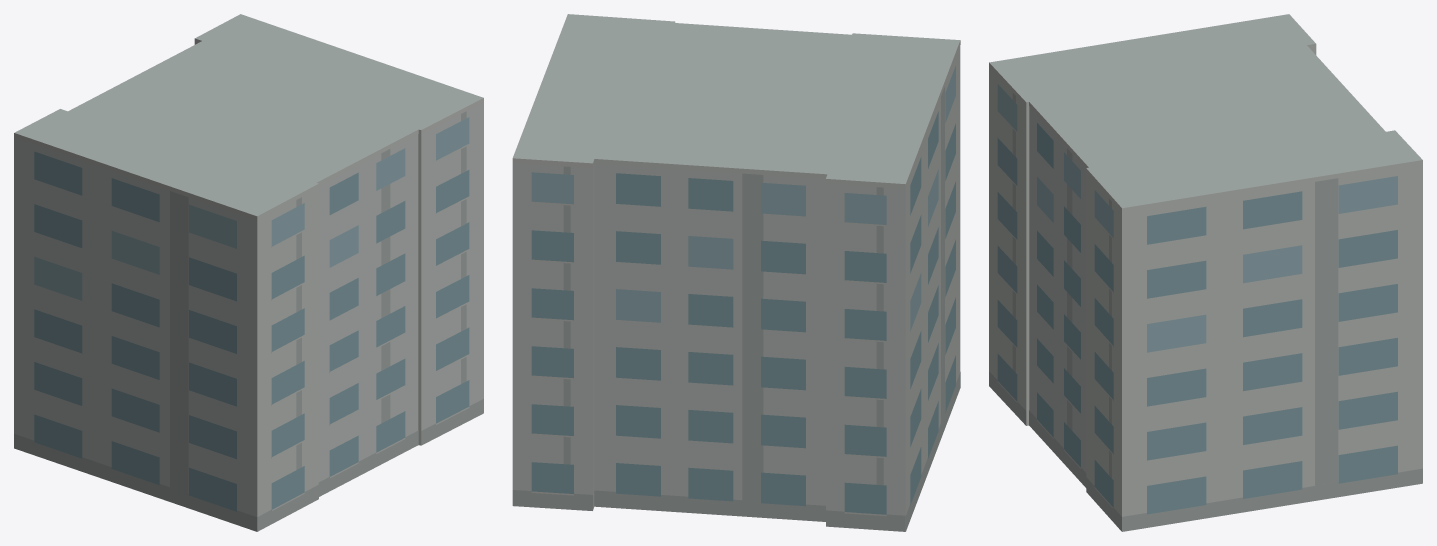
File: survey-upis-32835339.glb
The picture shows the model from 3 angles, left to right: view 1: azimuth 30°, elevation 25°; view 2: azimuth 150°, elevation 25°; view 3: azimuth 270°, elevation 25°; orthographic projection. The views are drawn at different scales.
Parts seen in each view (by area): view 1: survey-upis-32835339.tmp; view 2: survey-upis-32835339.tmp; view 3: survey-upis-32835339.tmp.
Boxes of the visible parts, bbox=[...] form: survey-upis-32835339.tmp: bbox=[14, 14, 483, 531]; survey-upis-32835339.tmp: bbox=[512, 14, 960, 531]; survey-upis-32835339.tmp: bbox=[989, 14, 1422, 531].
Size of the model in its own units: 22.25 by 17.28 by 21.
